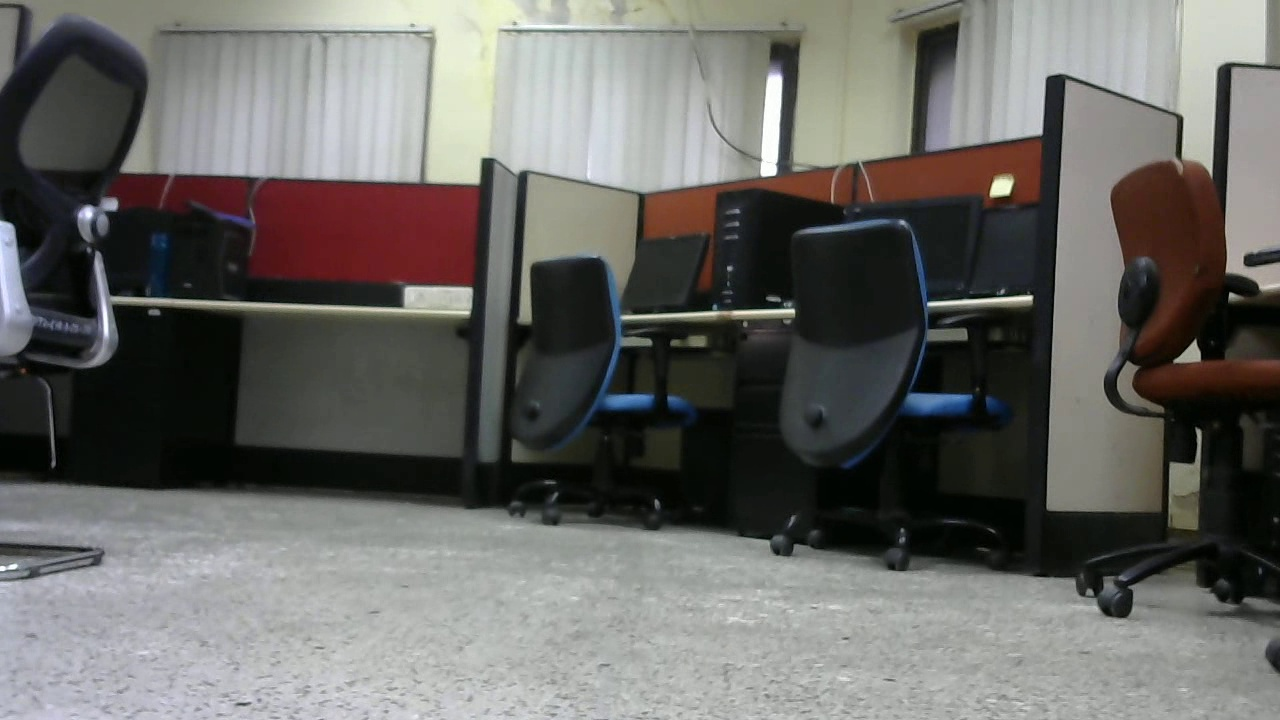chair: (1078, 155, 1280, 615), (765, 217, 1008, 576), (499, 243, 689, 528)
